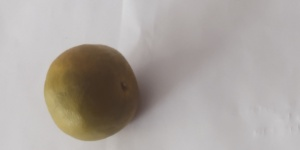BAD: (41, 42, 141, 144)
